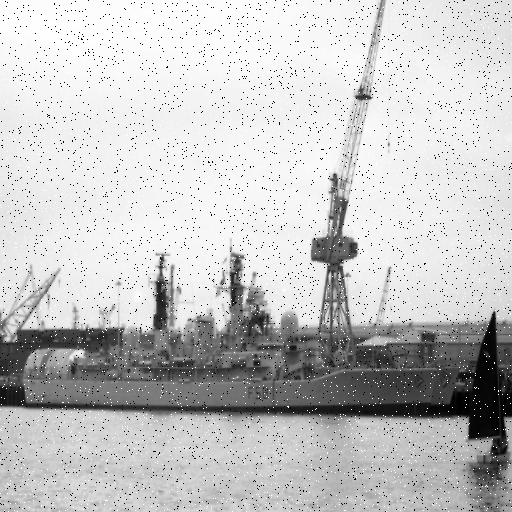Fragata: (19, 228, 469, 411)
